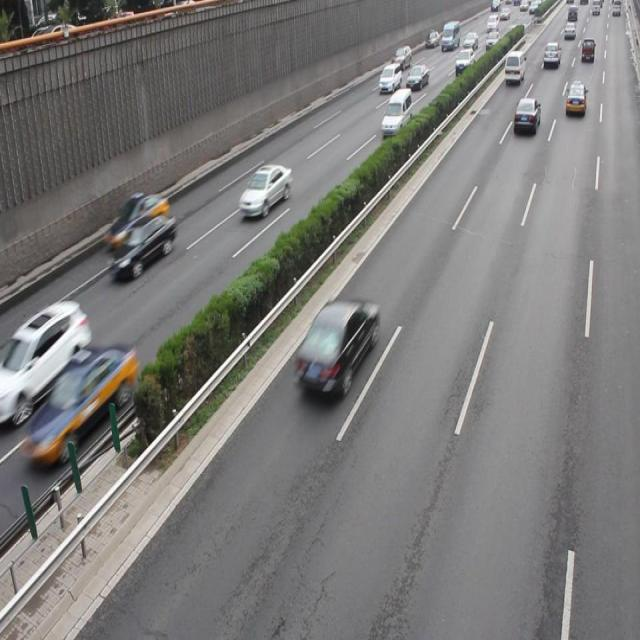car: (32, 342, 136, 463), (0, 299, 90, 413), (291, 297, 379, 402), (107, 210, 177, 281), (104, 192, 168, 250), (237, 162, 291, 220), (512, 97, 540, 136)
truck: (381, 87, 411, 137)
